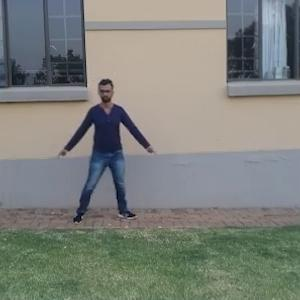land: (57, 74, 165, 237)
